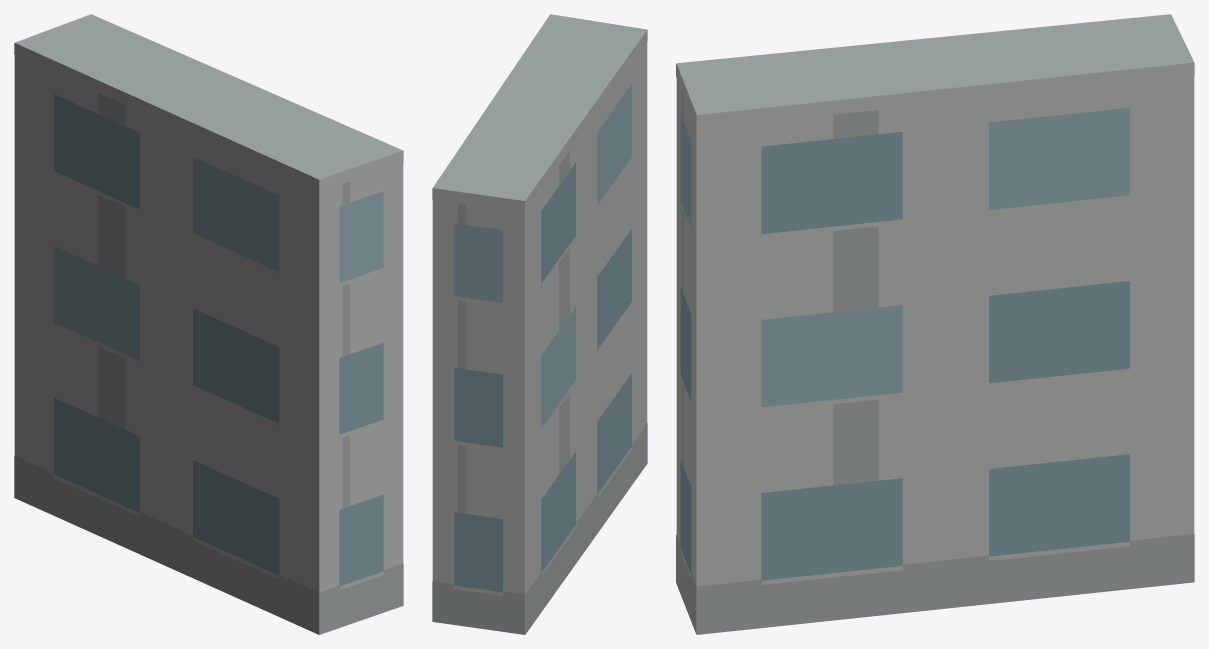
The model's file is survey-upis-32808715.glb.
3 views of the same model, side by side, from view 1: azimuth 30°, elevation 25°; view 2: azimuth 150°, elevation 25°; view 3: azimuth 270°, elevation 25° (orthographic). The views are drawn at different scales.
Visible parts, largest first — view 1: survey-upis-32808715.tmp; view 2: survey-upis-32808715.tmp; view 3: survey-upis-32808715.tmp.
Boxes of the visible parts, x1,y1,x2,y2 form: survey-upis-32808715.tmp: (14,14,403,634); survey-upis-32808715.tmp: (432,14,647,634); survey-upis-32808715.tmp: (676,14,1194,634).
Size of the model in its own units: 3.82 by 9.15 by 8.28.
